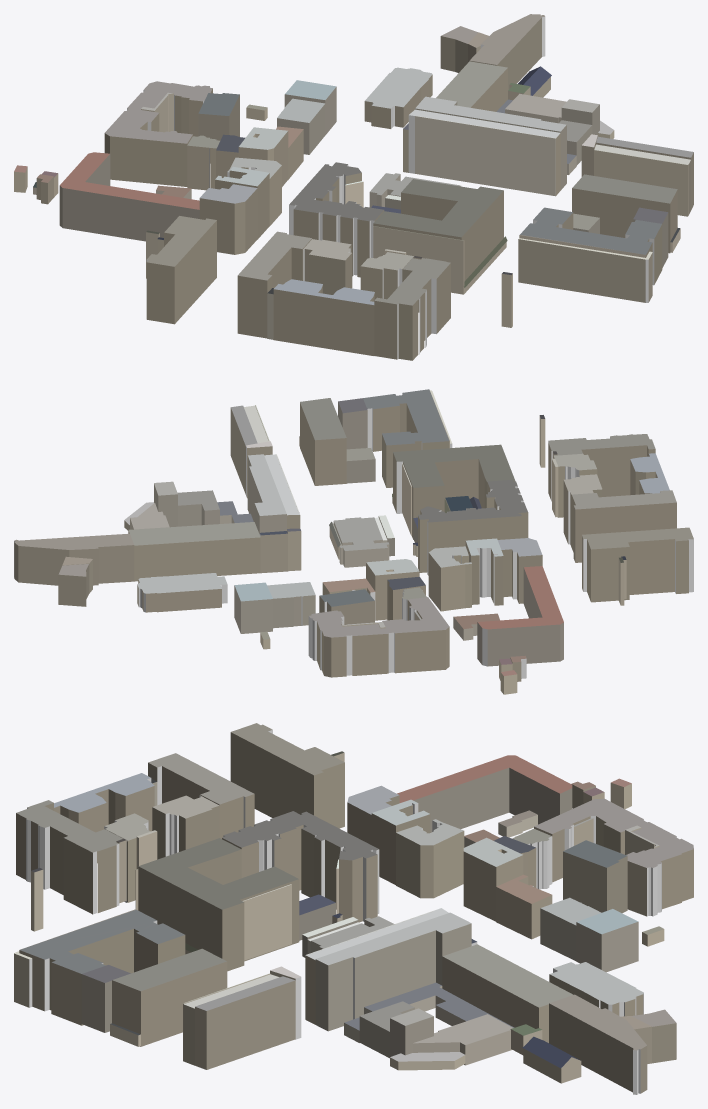
3 views of the same model, one above another, from view 1: azimuth 30°, elevation 25°; view 2: azimuth 150°, elevation 25°; view 3: azimuth 270°, elevation 25° (orthographic). The views are drawn at different scales.
Visible parts, largest first — view 1: tuile; view 2: tuile; view 3: tuile.
Boxes of the visible parts, x1=… form: tuile: x1=14, y1=14, x2=693, y2=360; tuile: x1=14, y1=389, x2=693, y2=694; tuile: x1=14, y1=723, x2=693, y2=1094.
Size of the model in its own units: 285 by 30.07 by 265.
